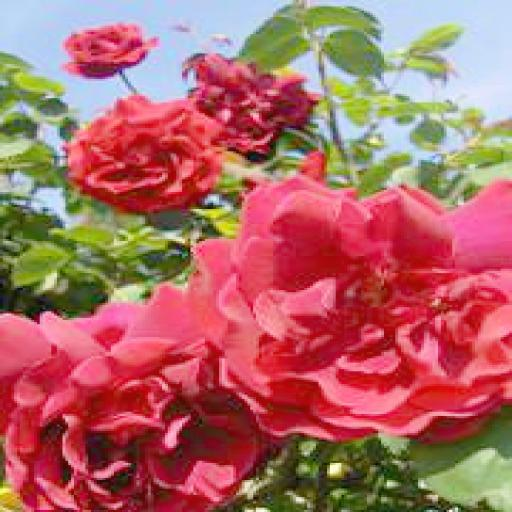rose: (190, 170, 512, 437), (65, 92, 219, 211), (57, 21, 159, 79)
